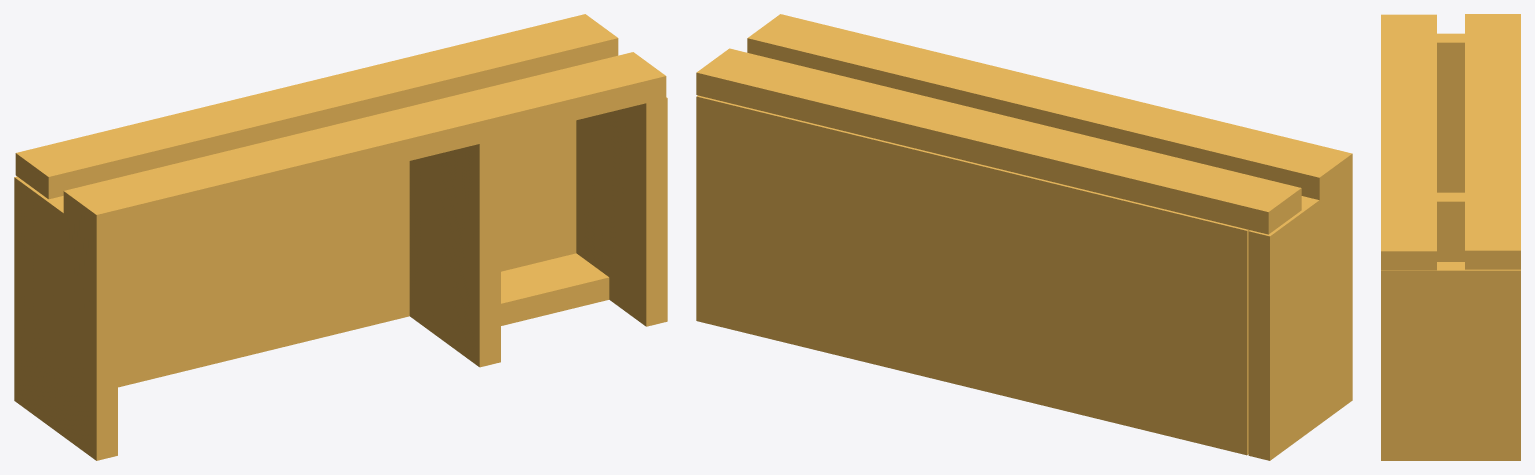
Rendered from tinker.obj.
3 views of the same model, side by side, from view 1: azimuth 30°, elevation 25°; view 2: azimuth 150°, elevation 25°; view 3: azimuth 270°, elevation 25° (orthographic). The views are drawn at different scales.
Parts seen in each view (by area): view 1: obj_0; view 2: obj_0; view 3: obj_0.
Boxes of the visible parts, x1=… form: obj_0: x1=14, y1=14, x2=667, y2=460; obj_0: x1=696, y1=14, x2=1352, y2=460; obj_0: x1=1381, y1=14, x2=1520, y2=460.
Bounding box in the file's own units: 401 × 166 × 100.
